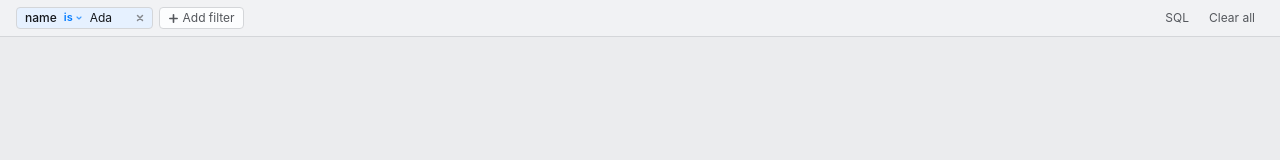
Scenario: FilterBar SQL preview freshness › recovers to empty text when describing fails
Click the button "SQL": (1177, 18) [1156,7,1198,29]
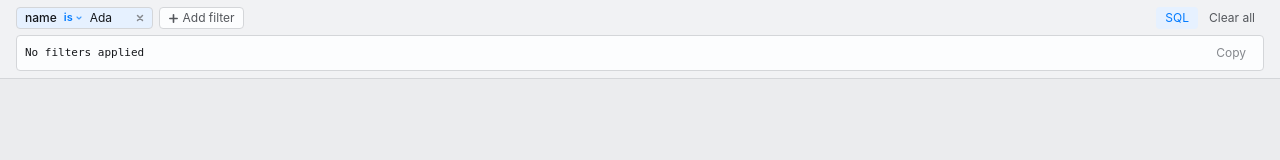
Expected: the text "No filters applied" is shown, [25,46,144,59]
